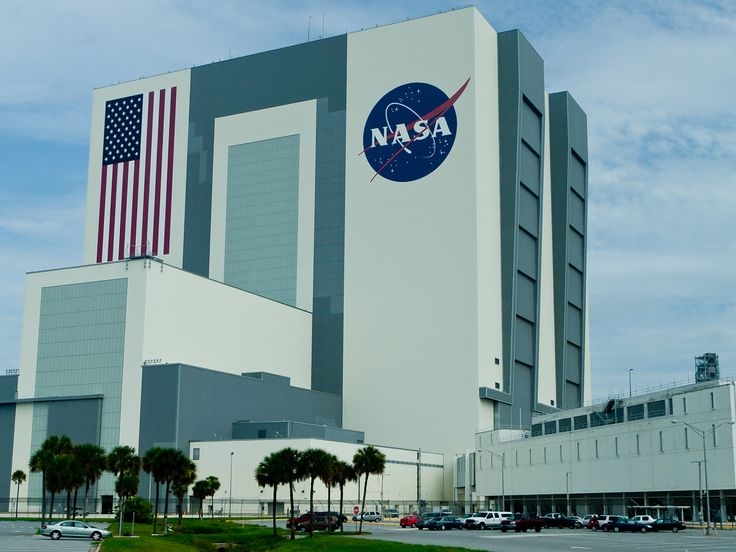NASA: (343, 75, 476, 186)
